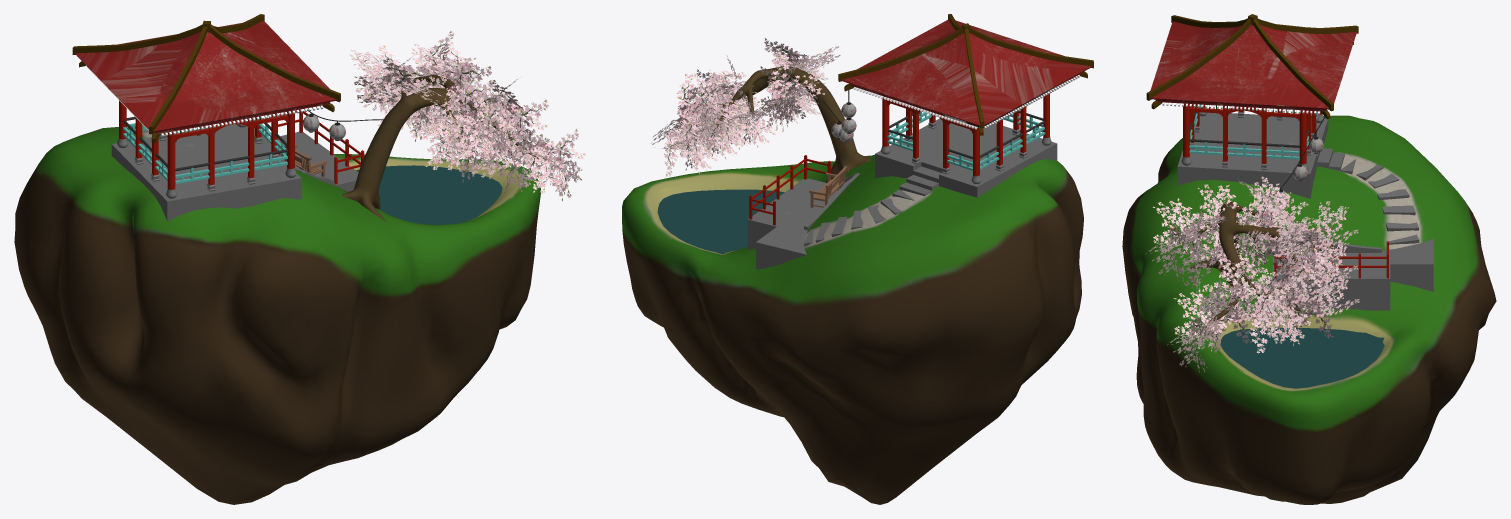
The model's file is Flying_Island_Low_Poly.fbx.
The picture shows the model from 3 angles, left to right: view 1: azimuth 30°, elevation 25°; view 2: azimuth 150°, elevation 25°; view 3: azimuth 270°, elevation 25°; orthographic projection. The views are drawn at different scales.
Visible parts, largest first — view 1: Flying_Island1:PM3D_Sphere3D_4, pasted__pasted__pPlane7, Dach.002, PavillionUV2_polySurface1, See, Baum2_Group23687, Base, pasted__pCube2, pasted__pasted__pasted__pCube2, pasted__pasted__pCube2; view 2: Flying_Island1:PM3D_Sphere3D_4, Dach.002, pasted__pasted__pPlane7, PavillionUV2_polySurface1, See, Base, Baum2_Group23687, pCube2, pasted__pasted__pCube2; view 3: Flying_Island1:PM3D_Sphere3D_4, pasted__pasted__pPlane7, Dach.002, PavillionUV2_polySurface1, See, Base, Baum2_Group23687, pasted__pCube2, pCube2, pasted__pasted__pasted__pCube2, pasted__pasted__pCube2.
Boxes of the visible parts, x1,y1,x2,y2 form: Flying_Island1:PM3D_Sphere3D_4: (14, 126, 540, 504); pasted__pasted__pPlane7: (349, 30, 585, 201); Dach.002: (75, 20, 336, 133); PavillionUV2_polySurface1: (111, 124, 301, 221); See: (356, 165, 502, 224); Baum2_Group23687: (342, 74, 538, 221); Base: (254, 128, 358, 191); pasted__pCube2: (210, 25, 340, 102); pasted__pasted__pasted__pCube2: (72, 24, 202, 54); pasted__pasted__pCube2: (149, 26, 207, 134); Flying_Island1:PM3D_Sphere3D_4: (622, 154, 1083, 504); Dach.002: (841, 19, 1091, 127); pasted__pasted__pPlane7: (651, 38, 840, 176); PavillionUV2_polySurface1: (875, 118, 1057, 200); See: (657, 189, 784, 254); Base: (747, 178, 839, 269); Baum2_Group23687: (686, 66, 871, 182); pCube2: (838, 27, 963, 81); pasted__pasted__pCube2: (970, 27, 1093, 68); Flying_Island1:PM3D_Sphere3D_4: (1122, 115, 1496, 504); pasted__pasted__pPlane7: (1146, 176, 1359, 372); Dach.002: (1150, 21, 1356, 111); PavillionUV2_polySurface1: (1177, 112, 1355, 198); See: (1220, 327, 1384, 388); Base: (1272, 238, 1433, 310); Baum2_Group23687: (1190, 202, 1307, 323); pasted__pCube2: (1146, 19, 1251, 100); pCube2: (1253, 19, 1333, 111); pasted__pasted__pasted__pCube2: (1257, 18, 1358, 33); pasted__pasted__pCube2: (1171, 15, 1247, 27).
Bounding box in the file's own units: 26.67 × 26.31 × 19.07.
